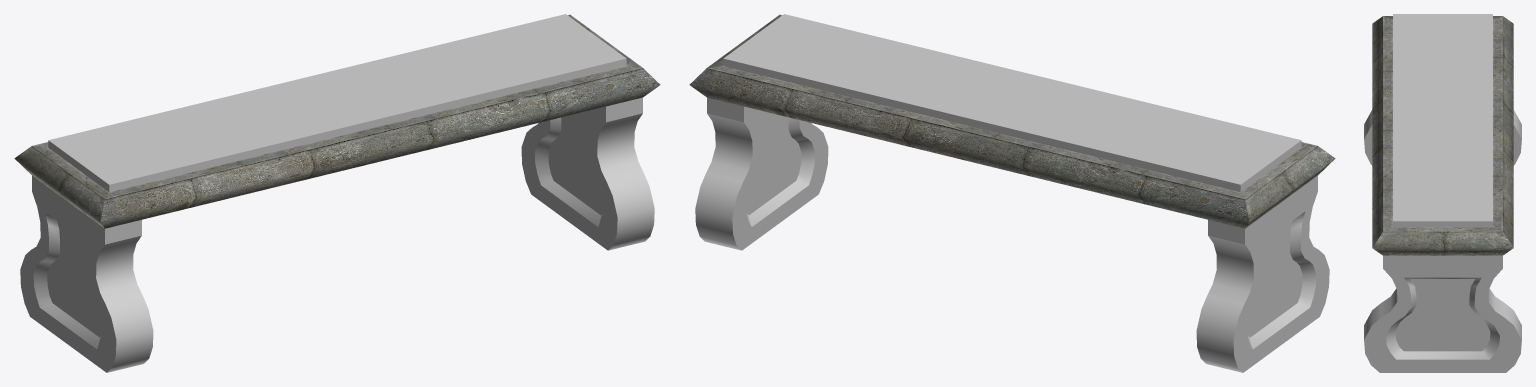
File: StoneBench.FBX
3 renders of one model, left to right at view 1: azimuth 30°, elevation 25°; view 2: azimuth 150°, elevation 25°; view 3: azimuth 270°, elevation 25°, orthographic. The views are drawn at different scales.
Parts seen in each view (by area): view 1: Box02; view 2: Box02; view 3: Box02.
Part boxes in pixels (x1,y1,x2,y2): Box02: (14, 14, 660, 372); Box02: (689, 14, 1335, 372); Box02: (1364, 14, 1521, 372).
Bounding box in the file's own units: 364 × 112 × 108.
